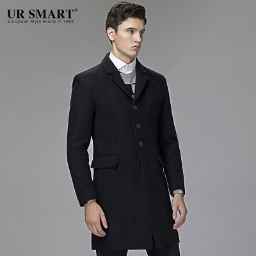face: (105, 2, 147, 59)
